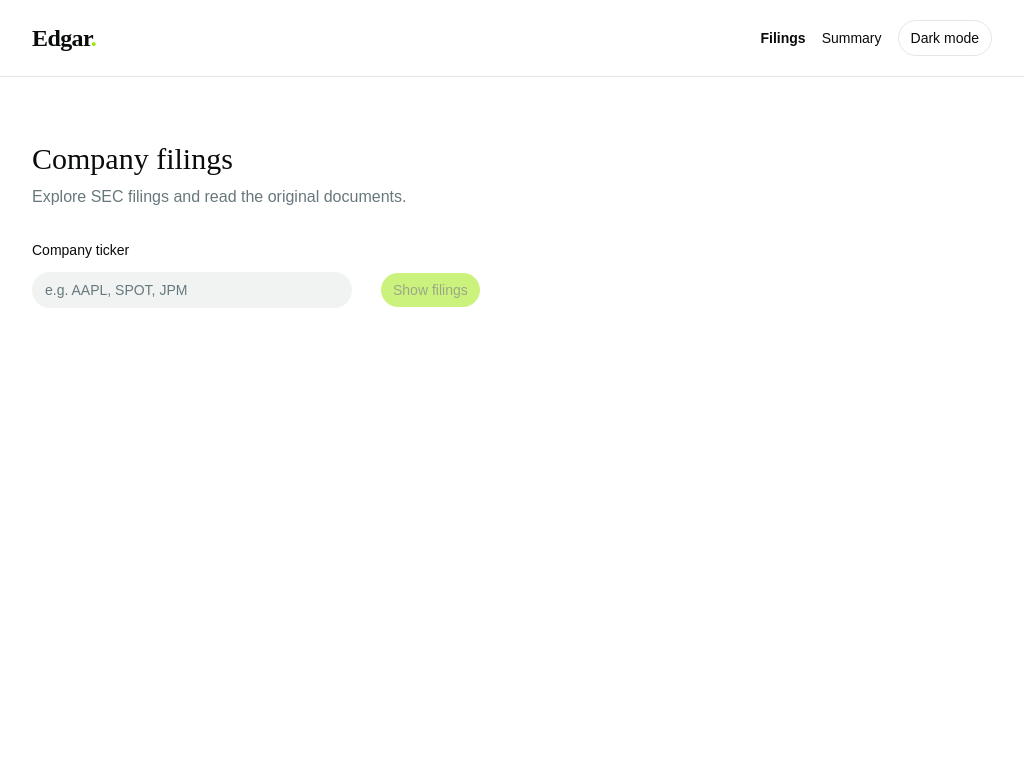
Test: filings page › submits a normalized ticker without fetching while typing and links to SEC documents
The image size is (1024, 768).
Expected: the heading "Company filings" is shown, x1=32 y1=142 x2=233 y2=175
Type " aapl " into the field labelled "Company ticker" at point(192, 290), box x1=32 y1=272 x2=352 y2=308
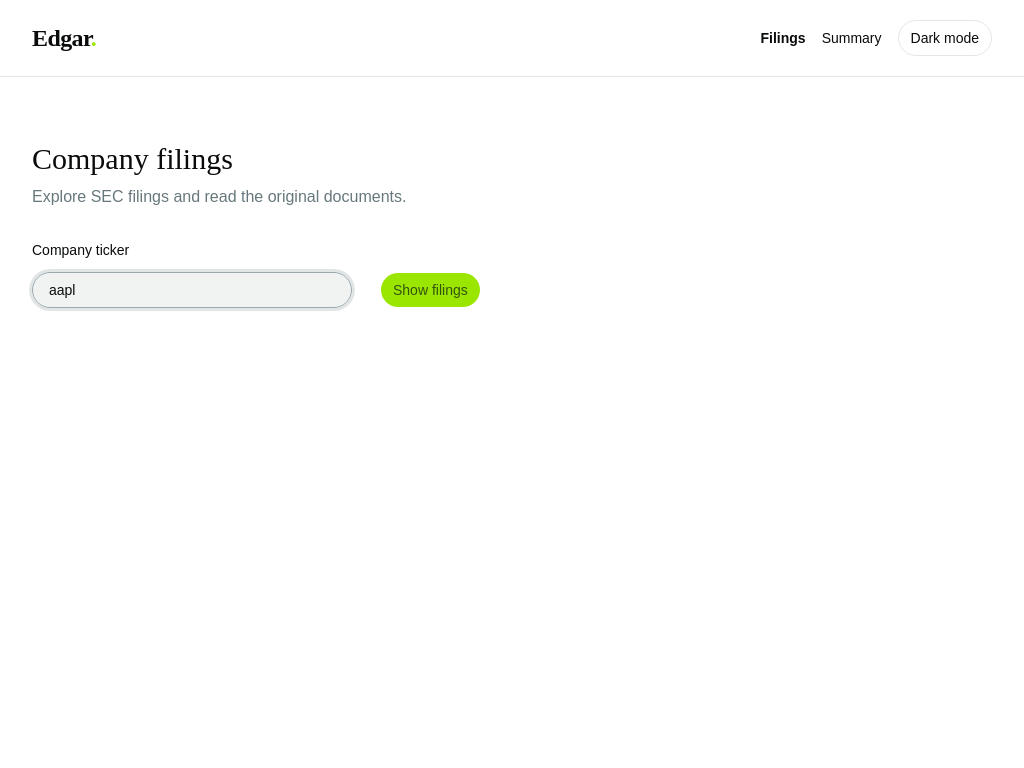
Press Enter
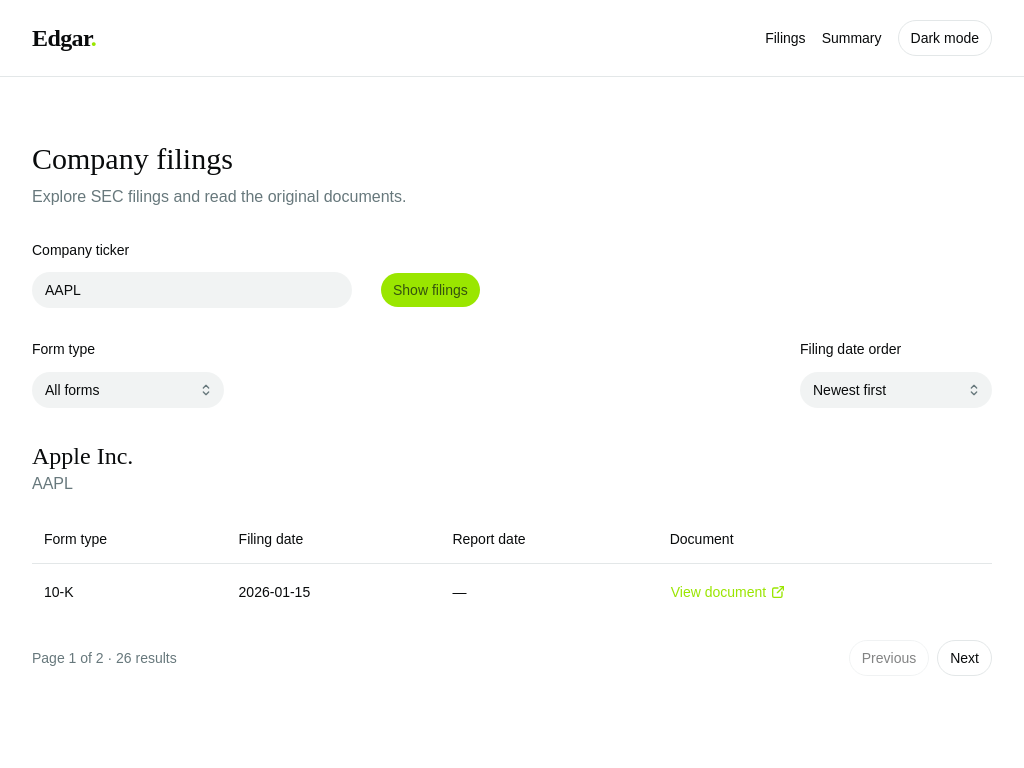
Expected: the heading "Apple Inc." is shown, x1=32 y1=442 x2=133 y2=468
Expected: the text "—" is shown, x1=440 y1=564 x2=658 y2=620
Expected: the button "Previous" is disabled, x1=849 y1=640 x2=929 y2=676
